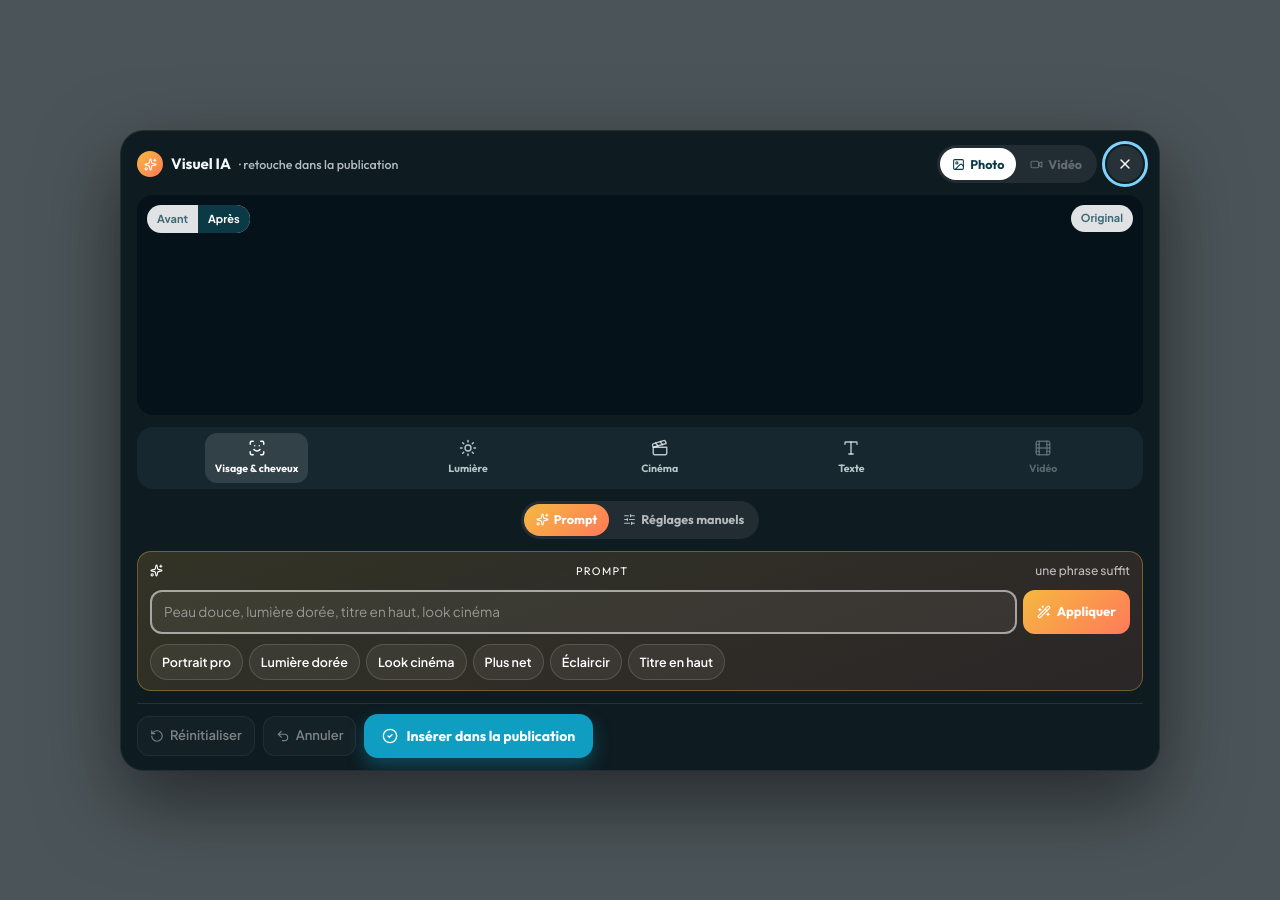
Scenario: studio « Visuel IA » (DEC-2026-061, B10) › offre les deux modes et les cinq familles ; « Vidéo » attend une vidéo ; une famille bascule en réglages manuels
Expected: the buttons read "Prompt", "Réglages manuels", in this order, [524, 503, 609, 535]; [611, 503, 756, 535]
Expected: the 2nd button "Vidéo" is disabled, [1011, 432, 1075, 482]
Step 1. Click the button "Lumière" → (468, 457), box [436, 432, 500, 482]
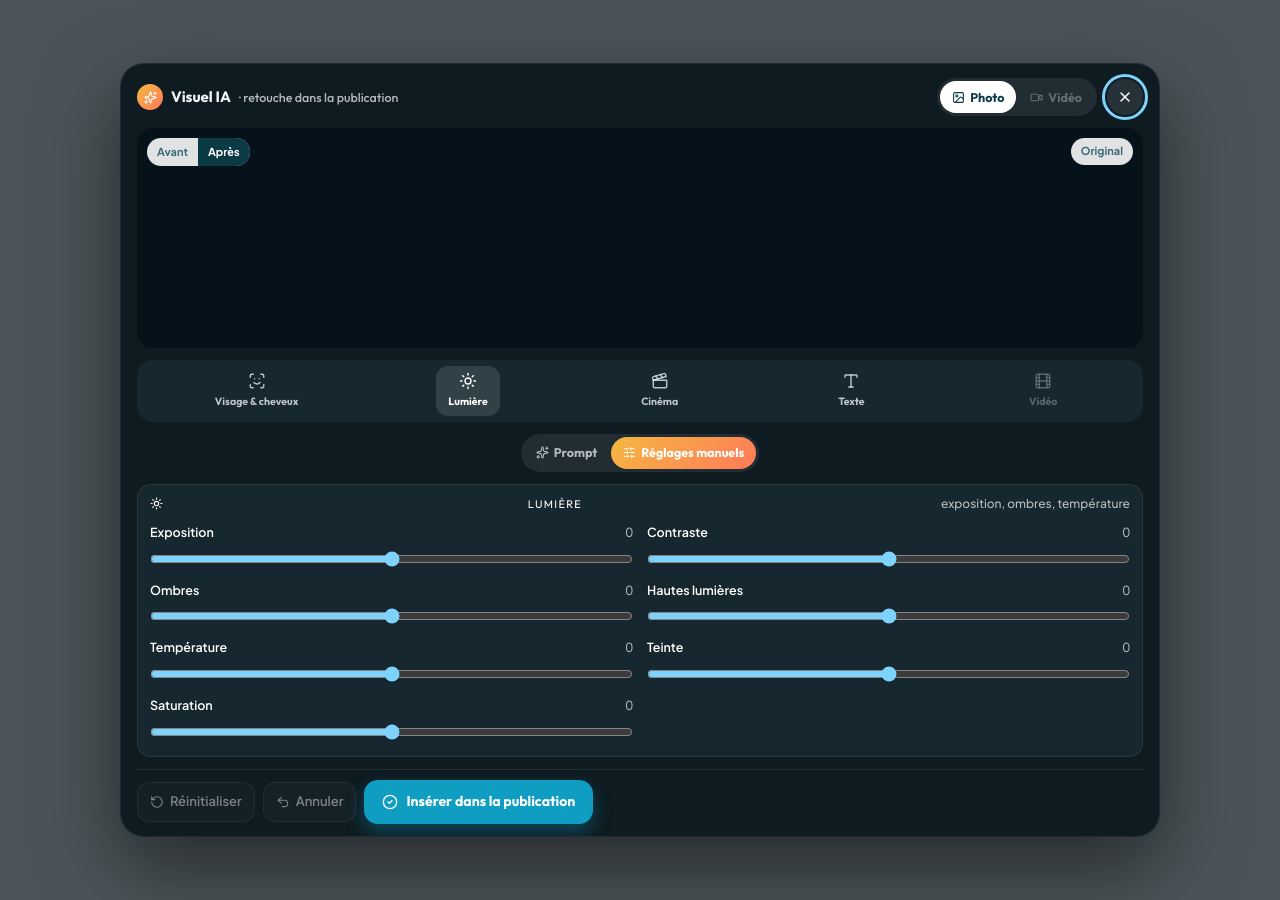
Expected: the button "Réglages manuels" is pressed, [611, 437, 756, 469]
Step 2. Click the button "Visage & cheveux" → (257, 391), box [205, 366, 308, 416]
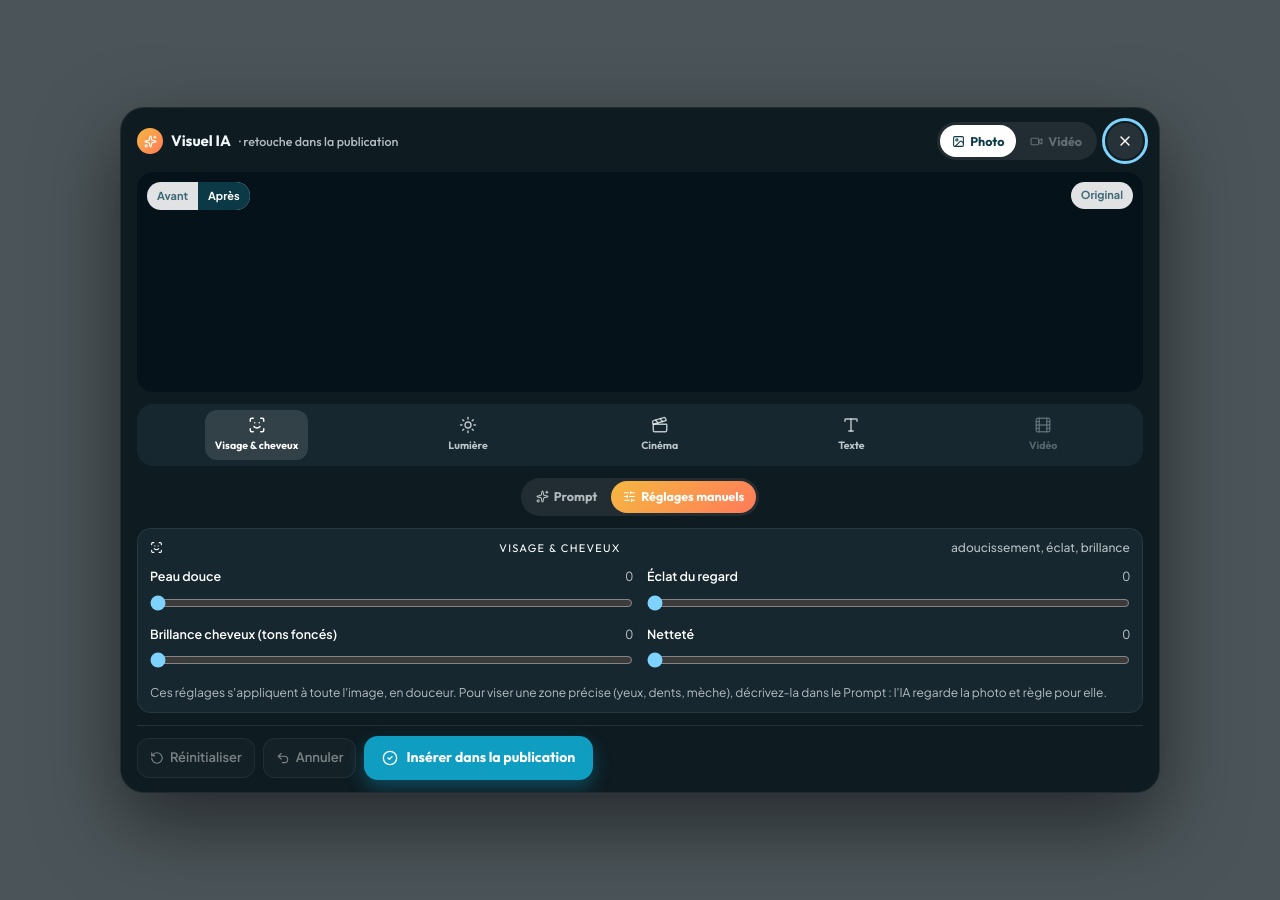
Expected: the text "Pour viser une zone précise" is shown, [150, 685, 1107, 700]
Step 3. Click the button "Cinéma" → (660, 435), box [628, 410, 692, 460]
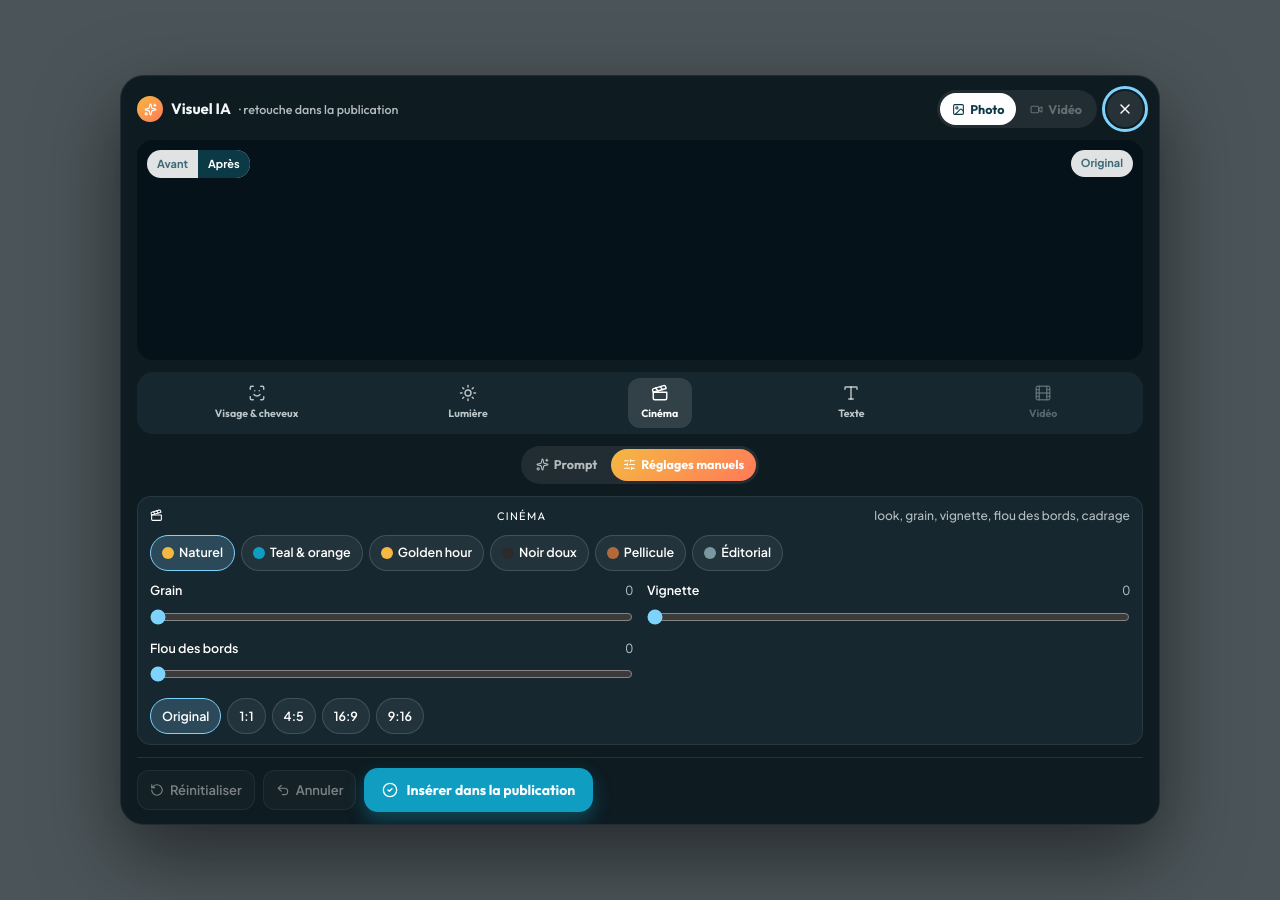
Expected: the buttons read "Naturel", "Teal & orange", "Golden hour", "Noir doux", "Pellicule", "Éditorial", in this order, [150, 535, 235, 571]; [241, 535, 363, 571]; [369, 535, 484, 571]; [490, 535, 589, 571]; [595, 535, 686, 571]; [692, 535, 783, 571]
Expected: the buttons read "Original", "1:1", "4:5", "16:9", "9:16", in this order, [150, 698, 221, 734]; [227, 698, 266, 734]; [272, 698, 316, 734]; [322, 698, 370, 734]; [376, 698, 424, 734]
Step 4. Click the button "Texte" → (851, 403), box [819, 378, 883, 428]
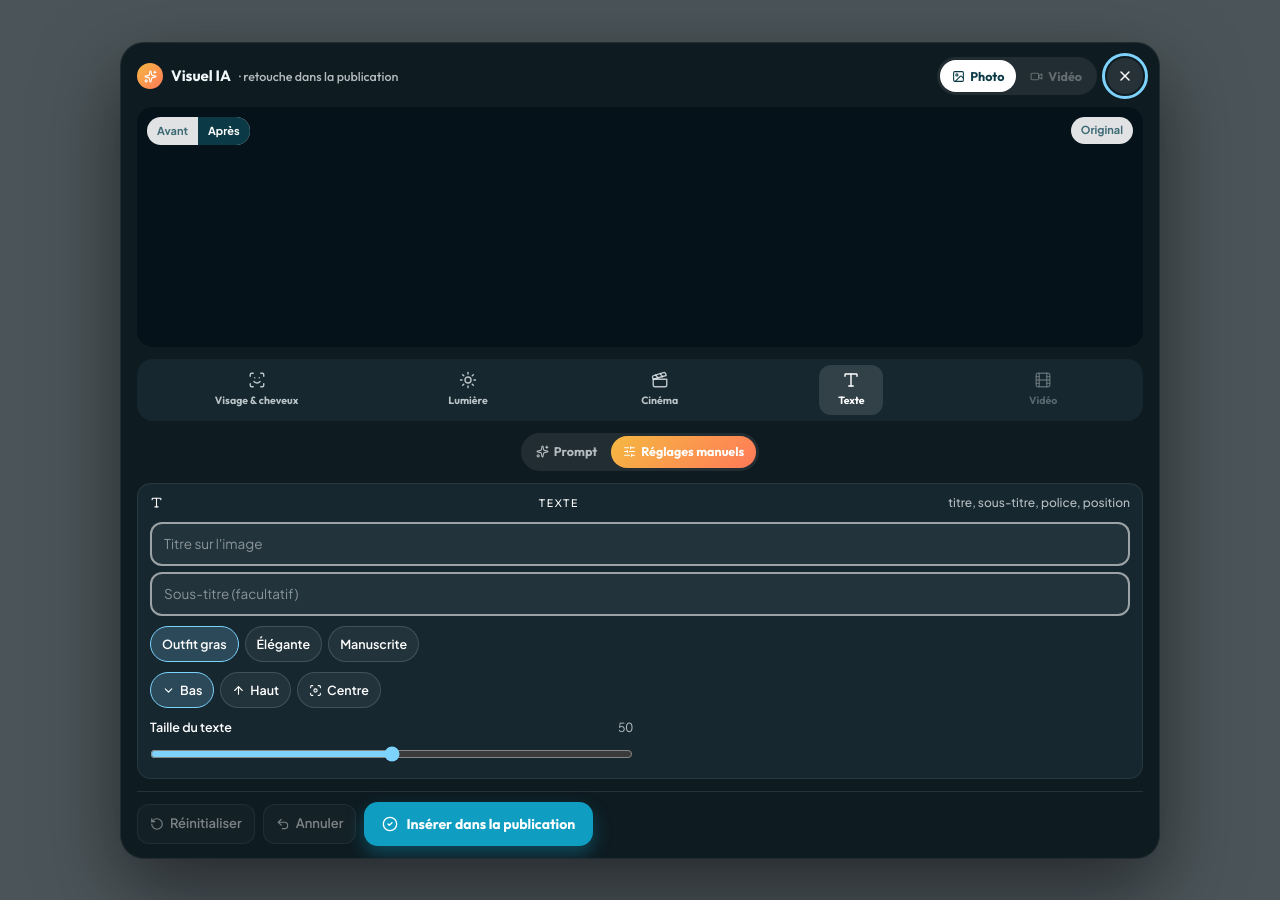
Expected: the field labelled "Titre sur l'image" is shown, [150, 521, 1130, 566]
Expected: the buttons read "Bas", "Haut", "Centre", in this order, [150, 672, 214, 708]; [220, 672, 291, 708]; [297, 672, 381, 708]
